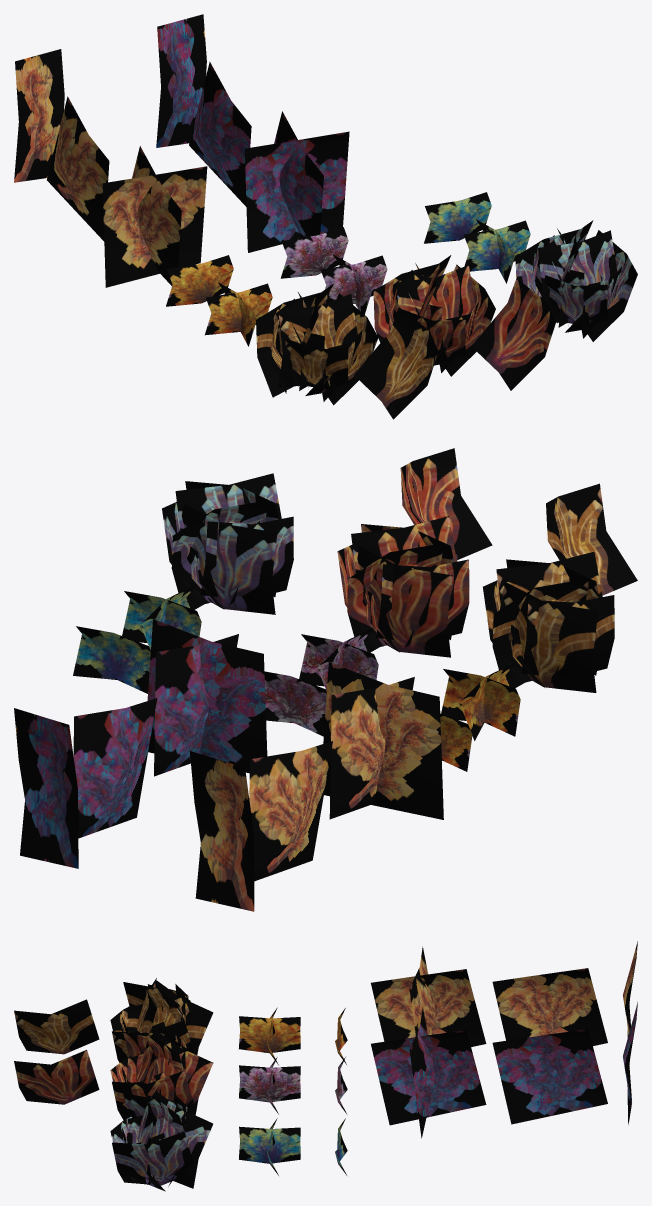
The model's file is AllCoralsLODS.fbx.
3 renders of one model, top to bottom at view 1: azimuth 30°, elevation 25°; view 2: azimuth 150°, elevation 25°; view 3: azimuth 270°, elevation 25°, orthographic. The views are drawn at different scales.
Visible parts, largest first — view 1: soft coral 1_Yellow-_LOD00, soft coral 1_purple-_LOD00, anoneme_yellow-_LOD00, anoneme_Blue_LOD00, anoneme_Red-_LOD00, soft coral 1 Single_Yellow-_LOD00, soft coral 1 Single_purple-_LOD00, anoneme Single_Red_LOD00, anoneme Single_yellow_LOD00, soft coral 1 Sheet_purple-_LOD00, soft coral 1 Sheet_Yellow-_LOD00, soft coral 2_Yellow-_LOD00 (+5 smaller); view 2: soft coral 1_Yellow-_LOD00, anoneme_yellow-_LOD00, anoneme_Blue_LOD00, soft coral 1_purple-_LOD00, anoneme_Red-_LOD00, soft coral 1 Sheet_purple-_LOD00, soft coral 1 Sheet_Yellow-_LOD00, soft coral 1 Single_purple-_LOD00, soft coral 1 Single_Yellow-_LOD00, anoneme Single_yellow_LOD00, anoneme Single_Red_LOD00, soft coral 2_Yellow-_LOD00 (+5 smaller); view 3: soft coral 1_purple-_LOD00, soft coral 1 Sheet_purple-_LOD00, anoneme_Blue_LOD00, soft coral 1_Yellow-_LOD00, soft coral 1 Sheet_Yellow-_LOD00, anoneme_Red-_LOD00, anoneme_yellow-_LOD00, anoneme Single_yellow_LOD00, anoneme Single_Red_LOD00, soft coral 2_purple-_LOD00, soft coral 2_Blue-_LOD00, soft coral 2_Yellow-_LOD00 (+2 smaller).
Boxes of the visible parts, left/top/right/bottom form: soft coral 1_Yellow-_LOD00: left=102, top=146, right=207, bottom=287; soft coral 1_purple-_LOD00: left=245, top=111, right=349, bottom=252; anoneme_yellow-_LOD00: left=256, top=283, right=378, bottom=405; anoneme_Blue_LOD00: left=515, top=220, right=637, bottom=341; anoneme_Red-_LOD00: left=373, top=255, right=495, bottom=376; soft coral 1 Single_Yellow-_LOD00: left=14, top=49, right=64, bottom=182; soft coral 1 Single_purple-_LOD00: left=156, top=14, right=206, bottom=147; anoneme Single_Red_LOD00: left=471, top=278, right=555, bottom=390; anoneme Single_yellow_LOD00: left=354, top=307, right=438, bottom=419; soft coral 1 Sheet_purple-_LOD00: left=189, top=61, right=251, bottom=206; soft coral 1 Sheet_Yellow-_LOD00: left=47, top=96, right=109, bottom=241; soft coral 2_Yellow-_LOD00: left=205, top=282, right=272, bottom=346; soft coral 1_Yellow-_LOD00: left=323, top=662, right=443, bottom=819; anoneme_yellow-_LOD00: left=483, top=551, right=614, bottom=692; anoneme_Blue_LOD00: left=162, top=473, right=293, bottom=614; soft coral 1_purple-_LOD00: left=147, top=619, right=267, bottom=776; anoneme_Red-_LOD00: left=337, top=516, right=469, bottom=657; soft coral 1 Sheet_purple-_LOD00: left=73, top=698, right=157, bottom=838; soft coral 1 Sheet_Yellow-_LOD00: left=249, top=741, right=332, bottom=881; soft coral 1 Single_purple-_LOD00: left=14, top=708, right=78, bottom=868; soft coral 1 Single_Yellow-_LOD00: left=190, top=751, right=254, bottom=911; anoneme Single_yellow_LOD00: left=546, top=483, right=637, bottom=595; anoneme Single_Red_LOD00: left=400, top=448, right=492, bottom=560; soft coral 2_Yellow-_LOD00: left=441, top=662, right=520, bottom=740; soft coral 1_purple-_LOD00: left=371, top=1007, right=486, bottom=1138; soft coral 1 Sheet_purple-_LOD00: left=492, top=1029, right=607, bottom=1124; anoneme_Blue_LOD00: left=110, top=1089, right=212, bottom=1191; soft coral 1_Yellow-_LOD00: left=371, top=946, right=486, bottom=1046; soft coral 1 Sheet_Yellow-_LOD00: left=492, top=968, right=607, bottom=1045; anoneme_Red-_LOD00: left=110, top=1028, right=213, bottom=1120; anoneme_yellow-_LOD00: left=110, top=978, right=213, bottom=1062; anoneme Single_yellow_LOD00: left=14, top=999, right=99, bottom=1054; anoneme Single_Red_LOD00: left=14, top=1050, right=99, bottom=1104; soft coral 2_purple-_LOD00: left=239, top=1057, right=300, bottom=1114; soft coral 2_Blue-_LOD00: left=239, top=1118, right=300, bottom=1175; soft coral 2_Yellow-_LOD00: left=239, top=1007, right=300, bottom=1065.
Size of what is drawn, in the model's own units: 302 by 109 by 505.
1 material, 1 textured.
